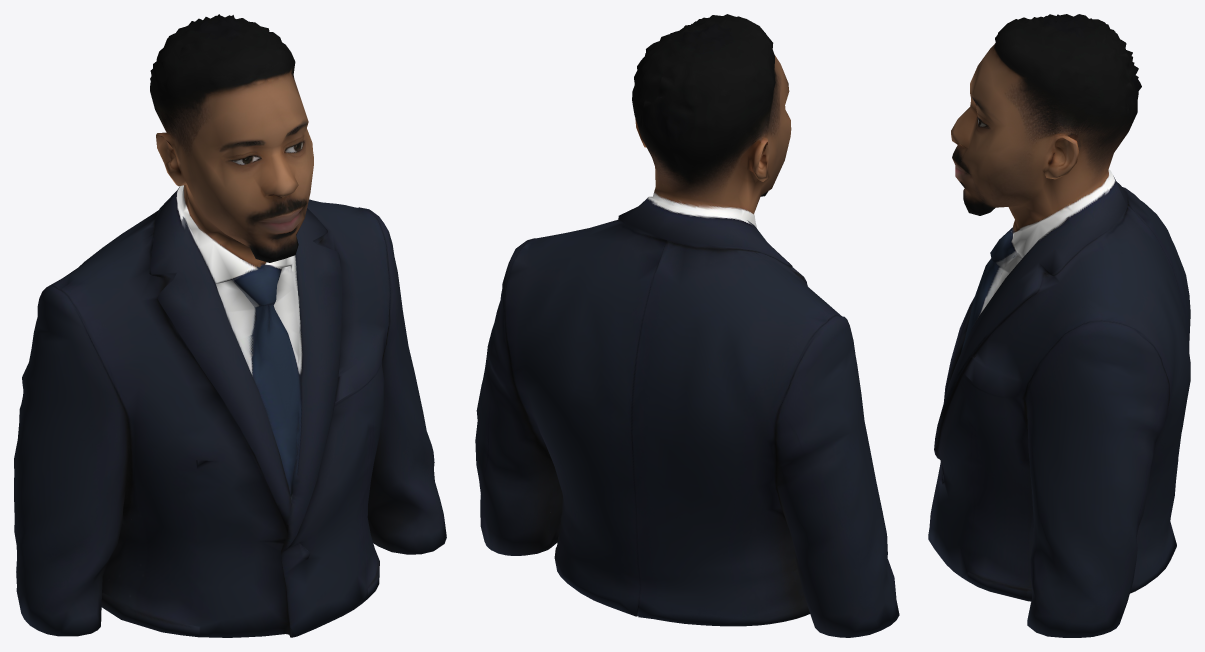
The model's file is dubem-model.glb.
3 renders of one model, left to right at view 1: azimuth 30°, elevation 25°; view 2: azimuth 150°, elevation 25°; view 3: azimuth 270°, elevation 25°, orthographic. The views are drawn at different scales.
Parts seen in each view (by area): view 1: tripo_node_65de5edc-3c5c-4629-90e0-066907c528dd; view 2: tripo_node_65de5edc-3c5c-4629-90e0-066907c528dd; view 3: tripo_node_65de5edc-3c5c-4629-90e0-066907c528dd.
Boxes of the visible parts, x1,y1,x2,y2 form: tripo_node_65de5edc-3c5c-4629-90e0-066907c528dd: (14,14,446,637); tripo_node_65de5edc-3c5c-4629-90e0-066907c528dd: (475,14,899,637); tripo_node_65de5edc-3c5c-4629-90e0-066907c528dd: (928,14,1190,637).
Bounding box in the file's own units: 0.7637 × 0.998 × 0.4551.
Materials: 1 (1 with a texture image).
